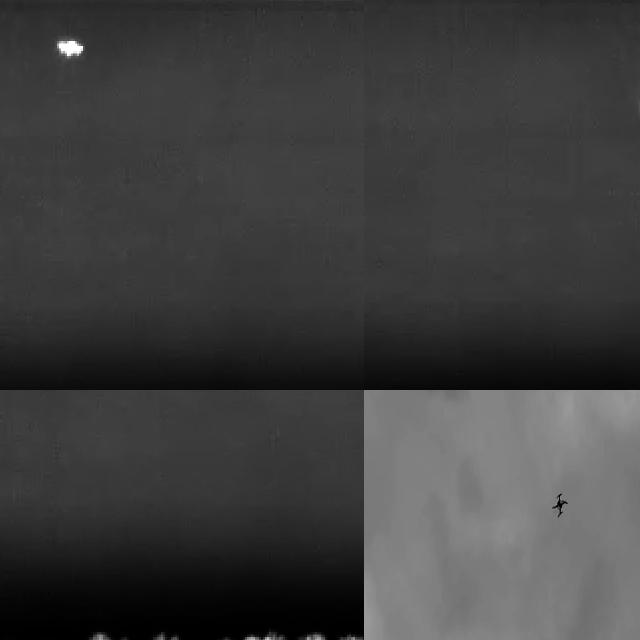1: (59, 36, 93, 64)
drone: (548, 487, 572, 523)
